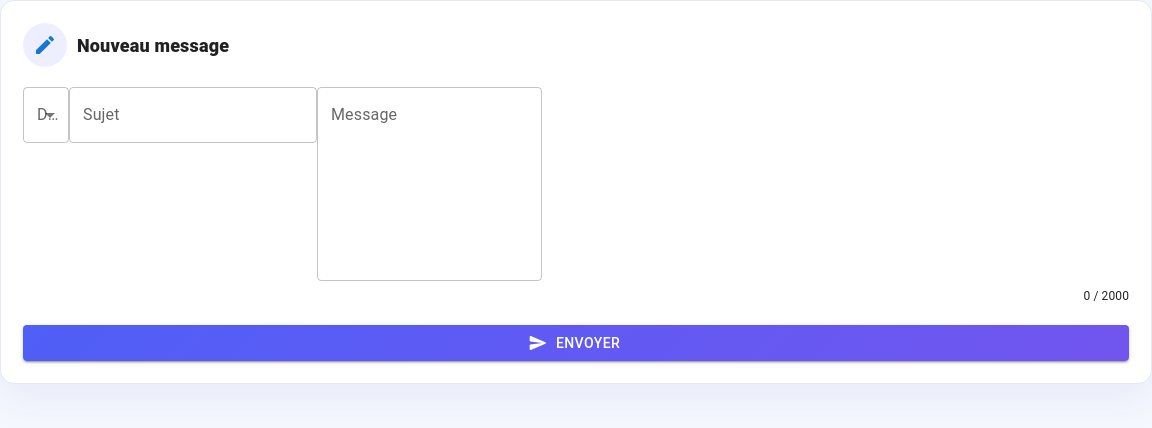
Test: MessageComposer › valide les champs obligatoires
Click the button "Envoyer" at (576, 343), box left=23, top=325, right=1129, bottom=361
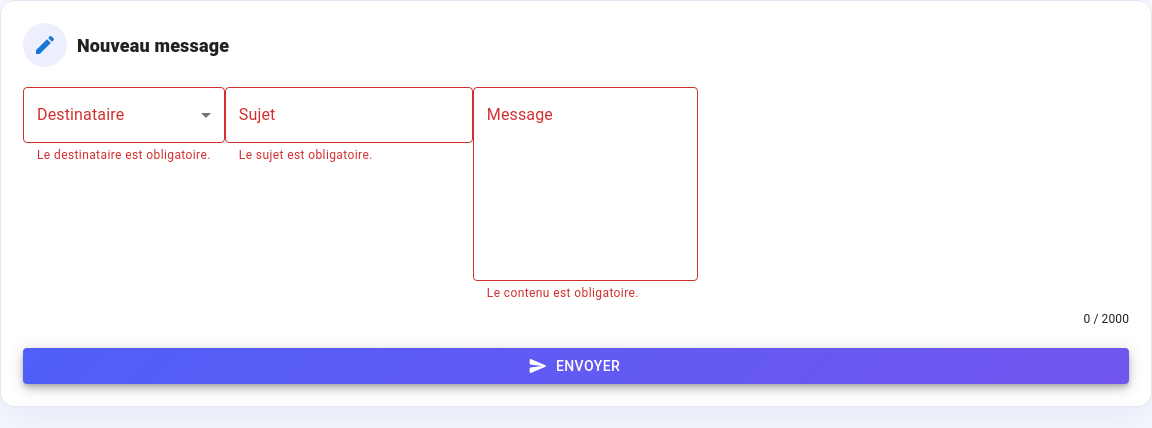
Now the text "Le destinataire est obligatoire." is shown, box left=37, top=146, right=211, bottom=166
Now the text "Le sujet est obligatoire." is shown, box left=239, top=148, right=373, bottom=162
Now the text "Le contenu est obligatoire." is shown, box left=487, top=286, right=639, bottom=300
